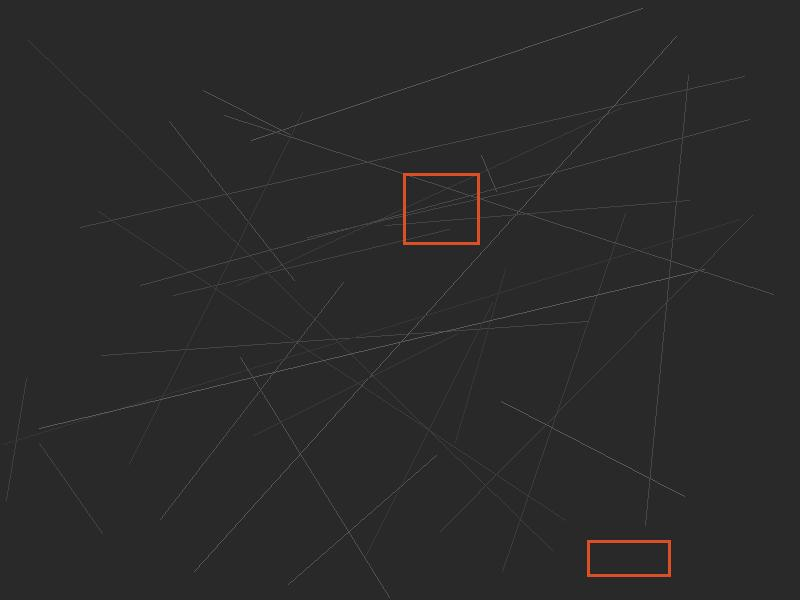D10: (403, 173, 479, 244)
D40: (587, 540, 670, 576)
